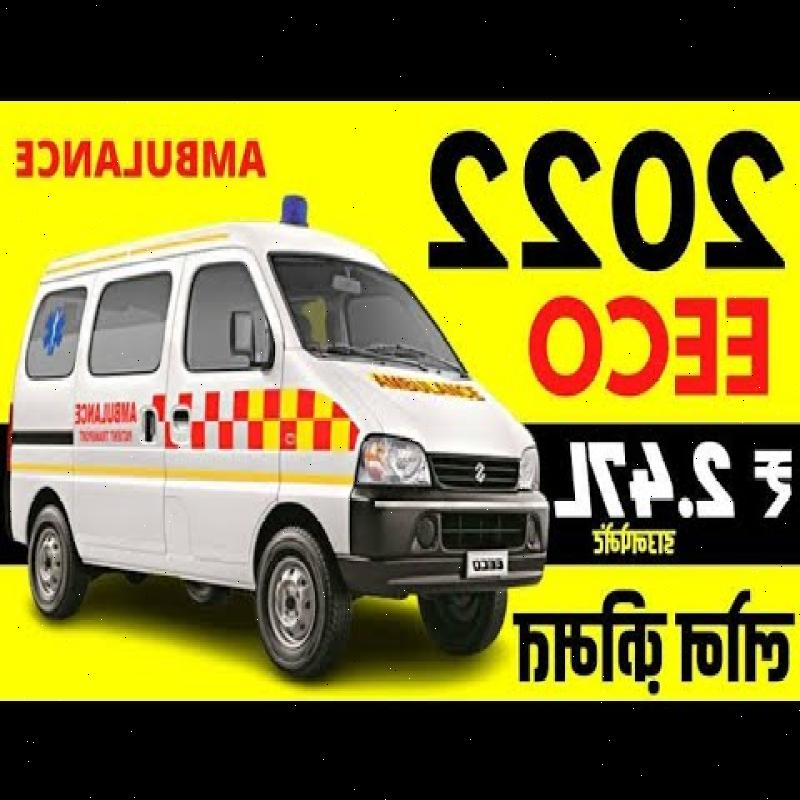ambulance: (3, 180, 541, 657)
